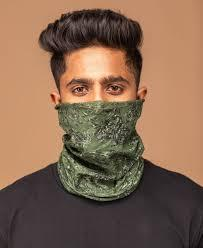scarf-kerchief: (51, 97, 157, 203)
